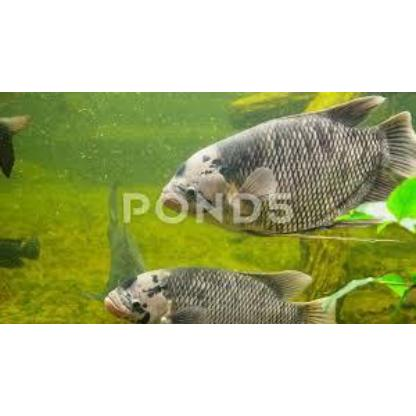gurame: (160, 94, 416, 230), (104, 264, 338, 324)
